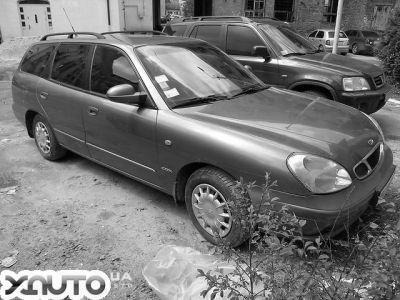car: (11, 33, 397, 251)
